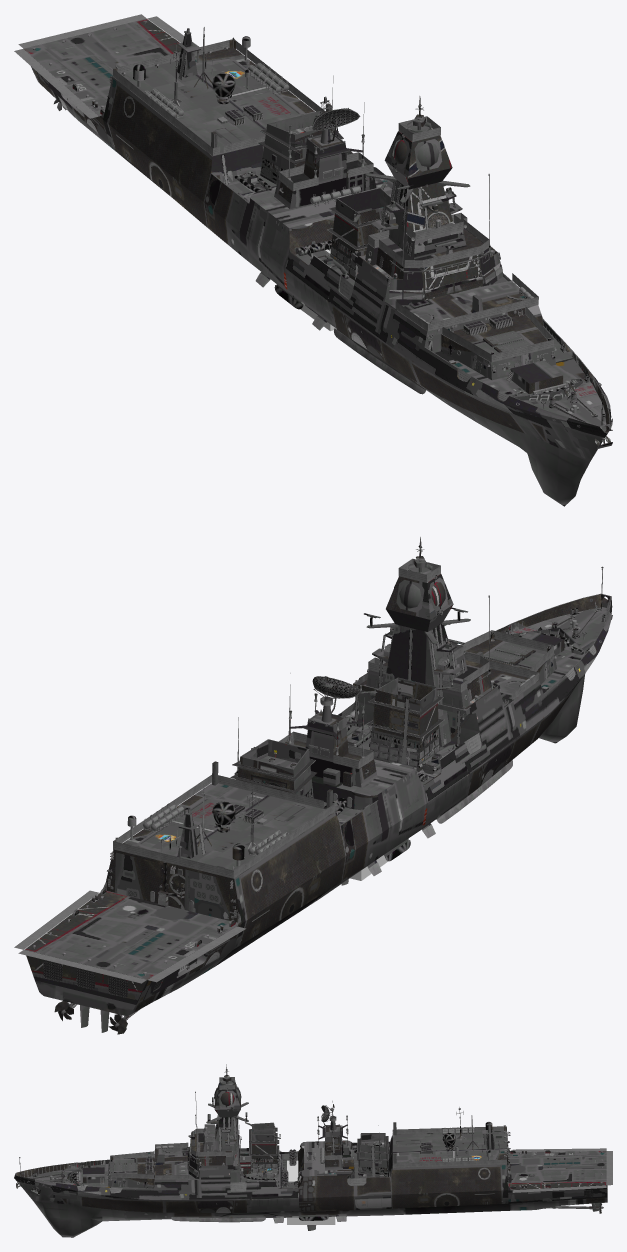
3 renders of one model, top to bottom at view 1: azimuth 30°, elevation 25°; view 2: azimuth 150°, elevation 25°; view 3: azimuth 270°, elevation 25°, orthographic. The views are drawn at different scales.
Parts seen in each view (by area): view 1: mesh_10_20.nr, mesh_16_104.nr, mesh_14_35.nr, mesh_18_224.nr, mesh_14_33.nr; view 2: mesh_10_20.nr, mesh_16_104.nr, mesh_14_35.nr, mesh_14_33.nr, mesh_18_224.nr; view 3: mesh_10_20.nr, mesh_16_104.nr, mesh_14_35.nr, mesh_14_33.nr, mesh_18_224.nr, Cube.
Part boxes in pixels (x1=…): mesh_10_20.nr: x1=23, y1=18, x2=611, y2=506; mesh_16_104.nr: x1=33, y1=20, x2=612, y2=446; mesh_14_35.nr: x1=18, y1=14, x2=594, y2=422; mesh_18_224.nr: x1=14, y1=16, x2=594, y2=419; mesh_14_33.nr: x1=34, y1=21, x2=612, y2=448; mesh_10_20.nr: x1=24, y1=537, x2=612, y2=1034; mesh_16_104.nr: x1=33, y1=537, x2=612, y2=1020; mesh_14_35.nr: x1=18, y1=558, x2=597, y2=989; mesh_14_33.nr: x1=50, y1=574, x2=612, y2=1019; mesh_18_224.nr: x1=14, y1=568, x2=596, y2=997; mesh_10_20.nr: x1=14, y1=1075, x2=607, y2=1237; mesh_16_104.nr: x1=16, y1=1064, x2=602, y2=1223; mesh_14_35.nr: x1=33, y1=1077, x2=612, y2=1196; mesh_14_33.nr: x1=16, y1=1090, x2=601, y2=1218; mesh_18_224.nr: x1=31, y1=1080, x2=606, y2=1196; Cube: x1=287, y1=1160, x2=335, y2=1224.
Bounding box in the file's own units: 4.23 × 7.93 × 24.72.
6 materials, 5 textured.
